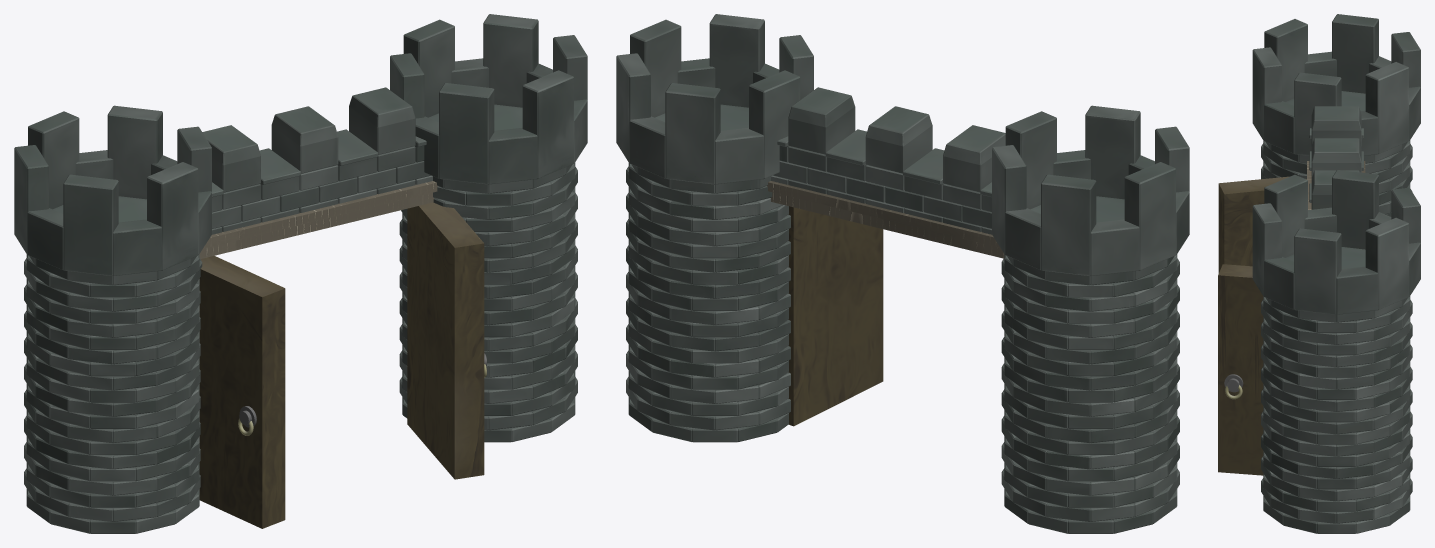
File: Medieval Door.fbx
The picture shows the model from 3 angles, left to right: view 1: azimuth 30°, elevation 25°; view 2: azimuth 150°, elevation 25°; view 3: azimuth 270°, elevation 25°; orthographic projection. The views are drawn at different scales.
Visible parts, largest first — view 1: Wall Tower_1.001, Cube.003, Medieval Wall.001, Cube, Cube.002; view 2: Wall Tower_1.001, Medieval Wall.001, Cube, Cube.002; view 3: Wall Tower_1.001, Cube, Medieval Wall.001, Cube.003.
Part boxes in pixels (x1=…): Wall Tower_1.001: x1=14, y1=14, x2=587, y2=533; Cube.003: x1=199, y1=256, x2=285, y2=528; Medieval Wall.001: x1=202, y1=87, x2=432, y2=234; Cube: x1=407, y1=202, x2=486, y2=479; Cube.002: x1=199, y1=181, x2=437, y2=258; Wall Tower_1.001: x1=616, y1=14, x2=1189, y2=533; Medieval Wall.001: x1=771, y1=87, x2=1005, y2=234; Cube: x1=788, y1=206, x2=883, y2=426; Cube.002: x1=767, y1=181, x2=1004, y2=258; Wall Tower_1.001: x1=1252, y1=14, x2=1420, y2=533; Cube: x1=1218, y1=264, x2=1263, y2=475; Medieval Wall.001: x1=1309, y1=106, x2=1363, y2=209; Cube.003: x1=1218, y1=176, x2=1306, y2=273.
Bounding box in the file's own units: 1051 × 645 × 397.
3 materials, 3 textured.
